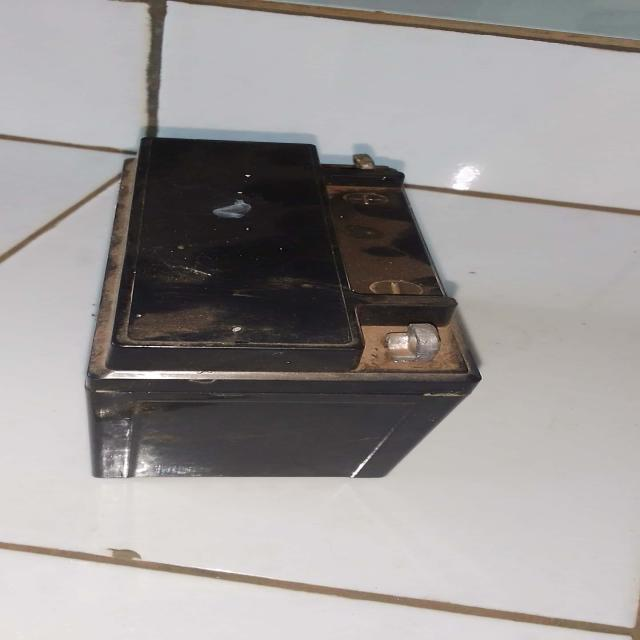Dry Cell: (68, 136, 492, 494)
